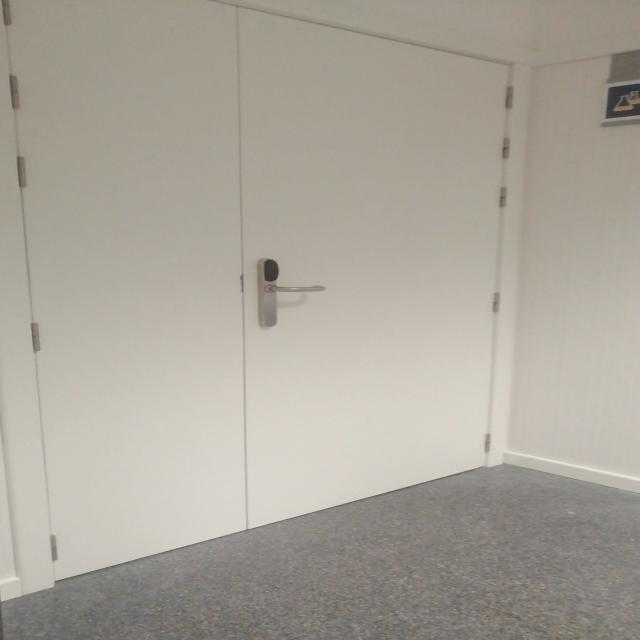door_handle: (256, 283, 329, 296)
